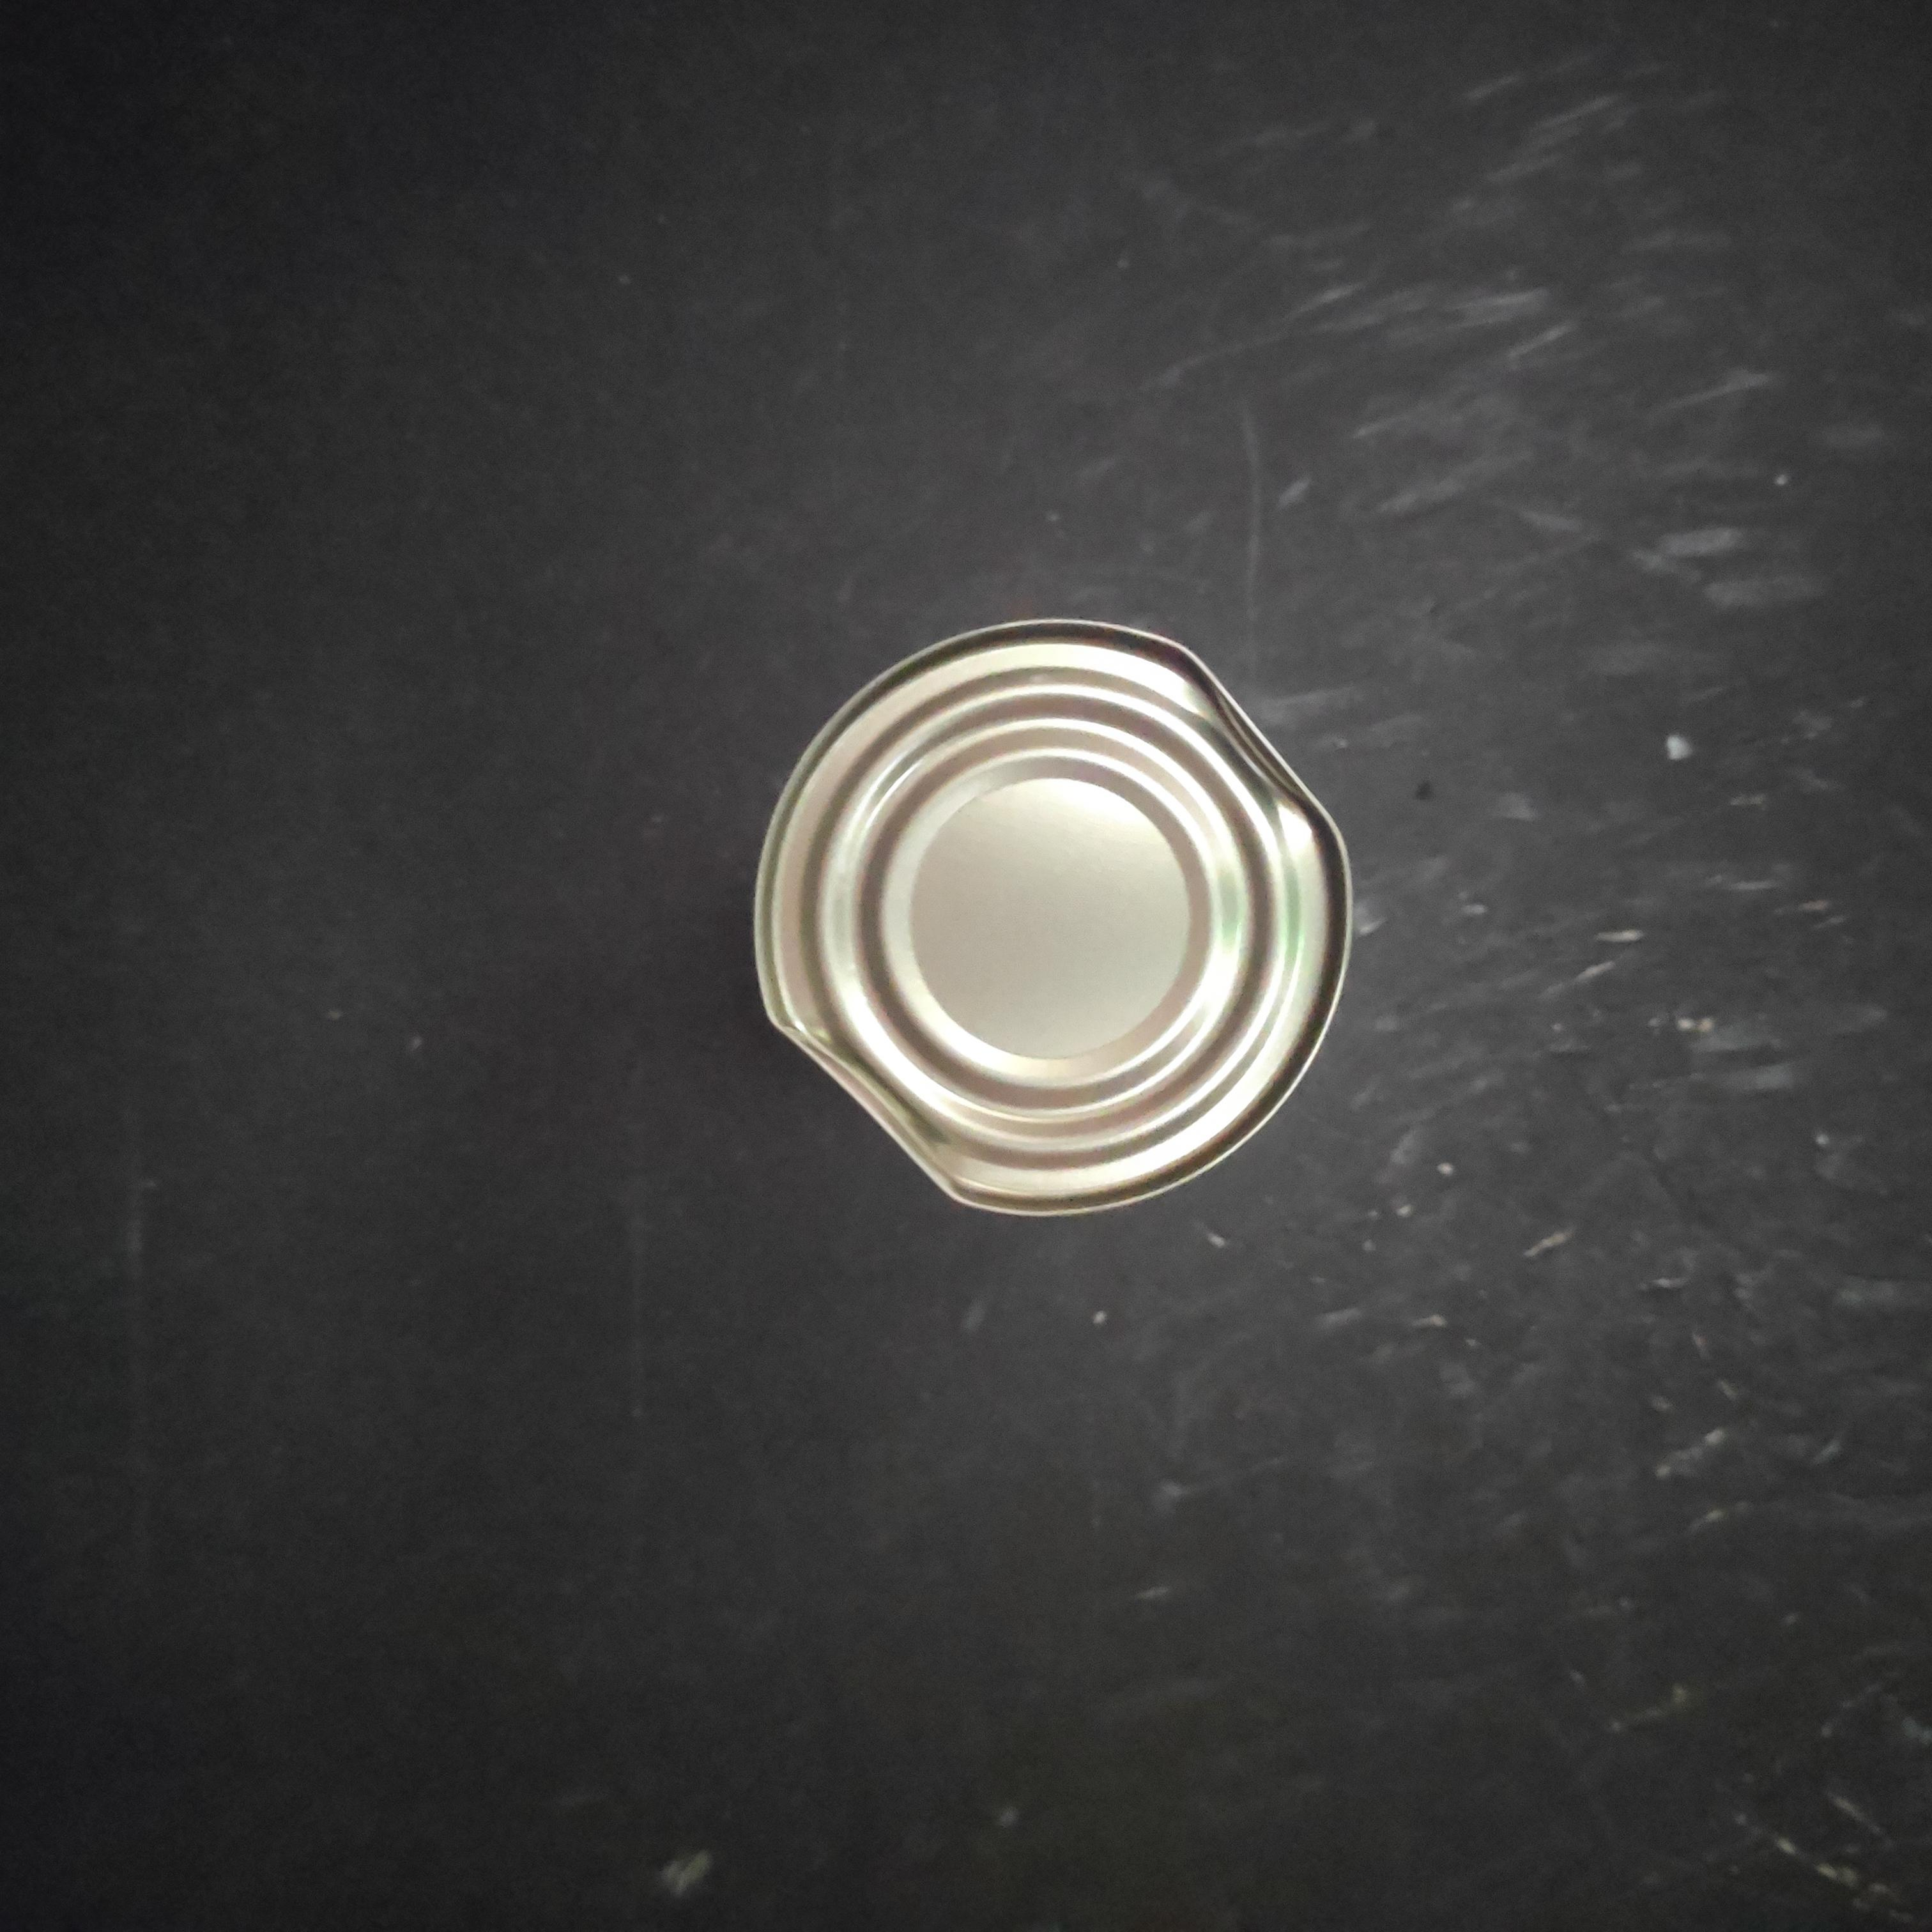Minor Defect: (570, 697, 1191, 1329)
